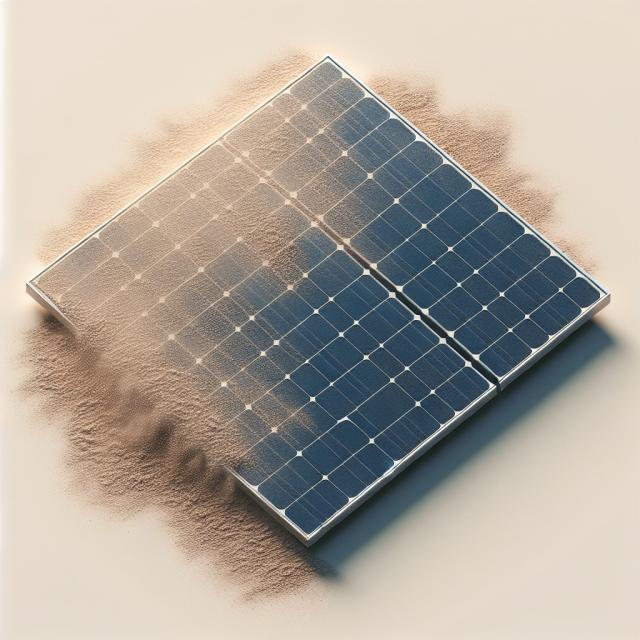Anomaly Solar Panel: (28, 3, 604, 571)
Surface Contaminant: (26, 48, 510, 514)
